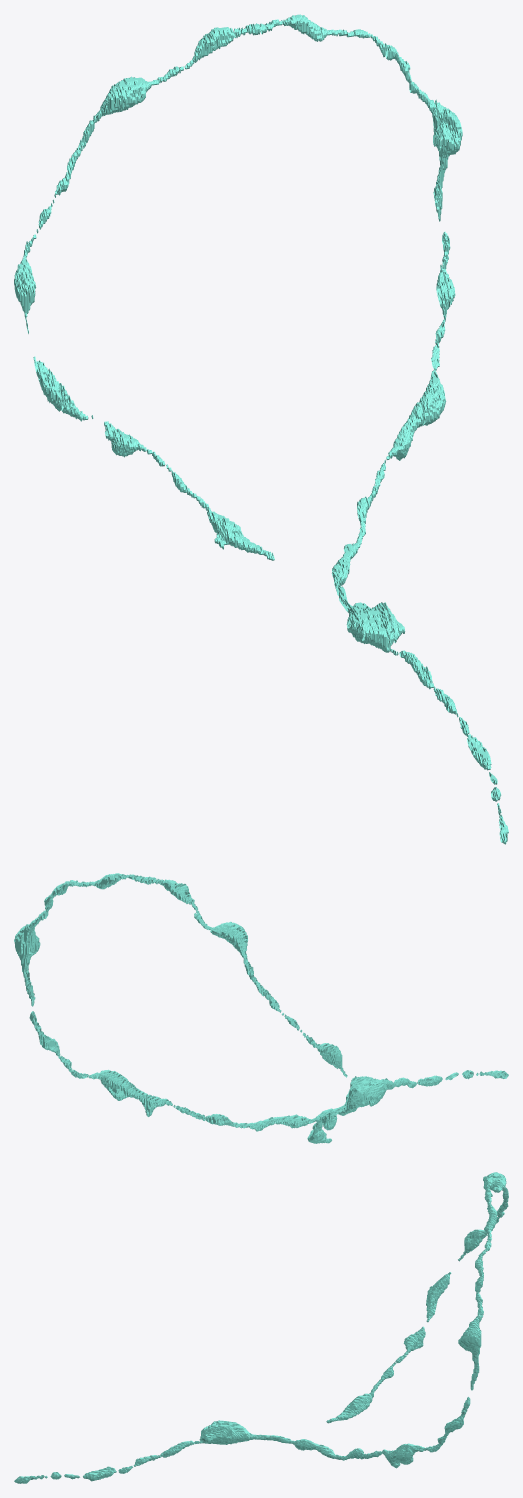
The model's file is SVV_DVC.gltf.
The picture shows the model from 3 angles, top to bottom: view 1: azimuth 30°, elevation 25°; view 2: azimuth 150°, elevation 25°; view 3: azimuth 270°, elevation 25°; orthographic projection. The views are drawn at different scales.
Parts seen in each view (by area): view 1: DVC; view 2: DVC; view 3: DVC.
Part boxes in pixels (box(x1,y1,x2,y2)): DVC: box(14, 14, 508, 844); DVC: box(14, 873, 508, 1143); DVC: box(14, 1172, 508, 1483).
Bounding box in the file's own units: 144352 × 160890 × 218396.
